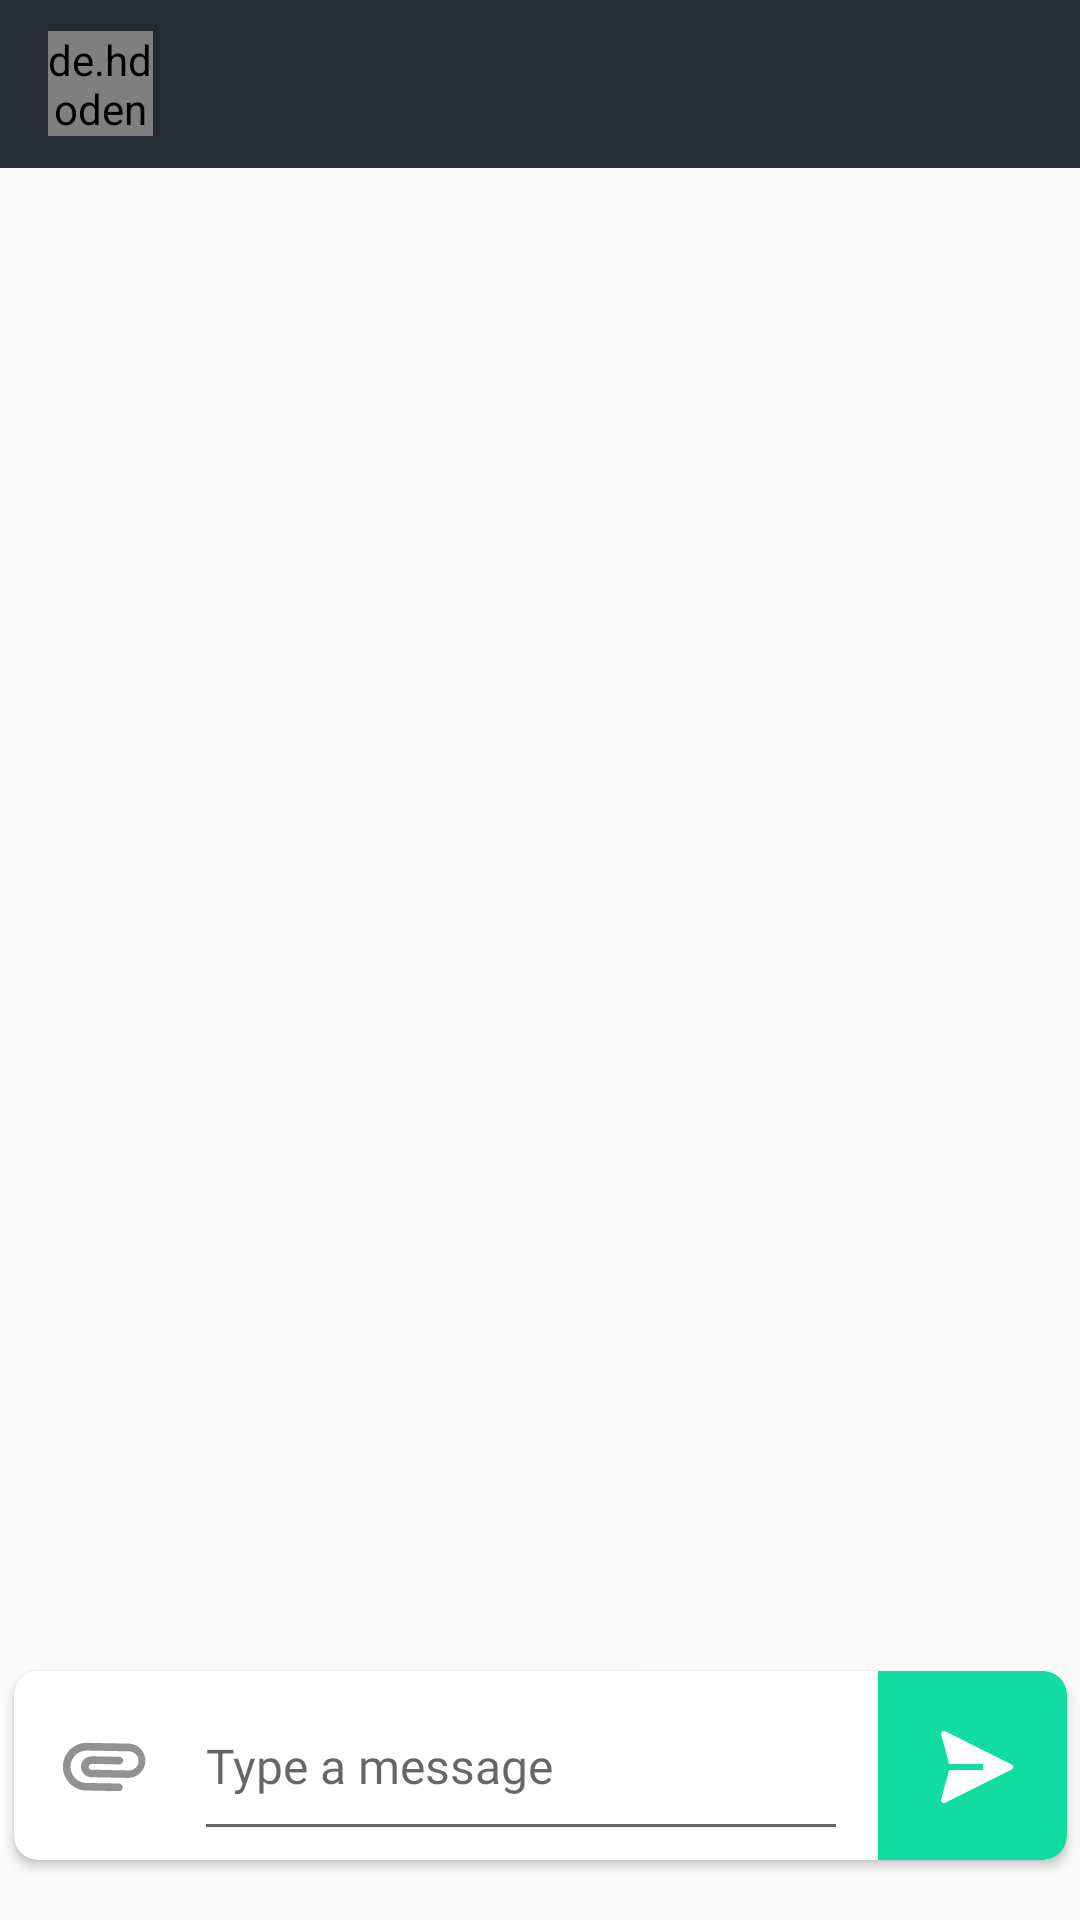

Icons on this 1080x1920 Android screen, each with the point to tap as point (x, y):
paperclip: point (104, 1766)
send: point (972, 1765)
